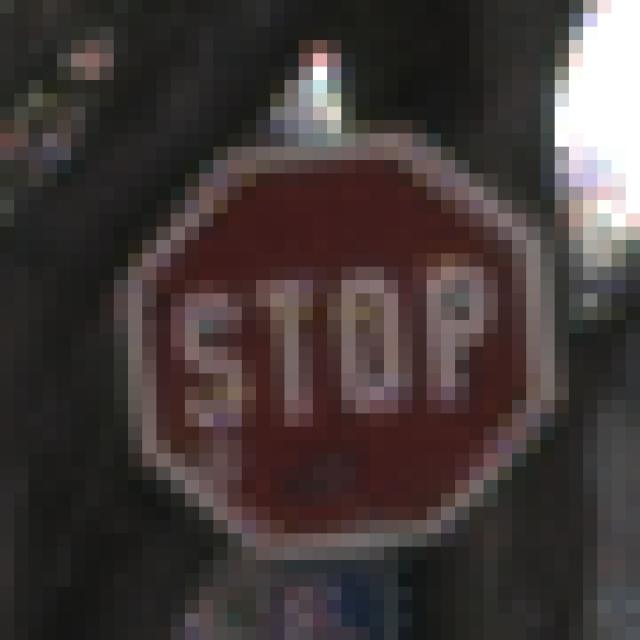STOP: (86, 81, 570, 574)
